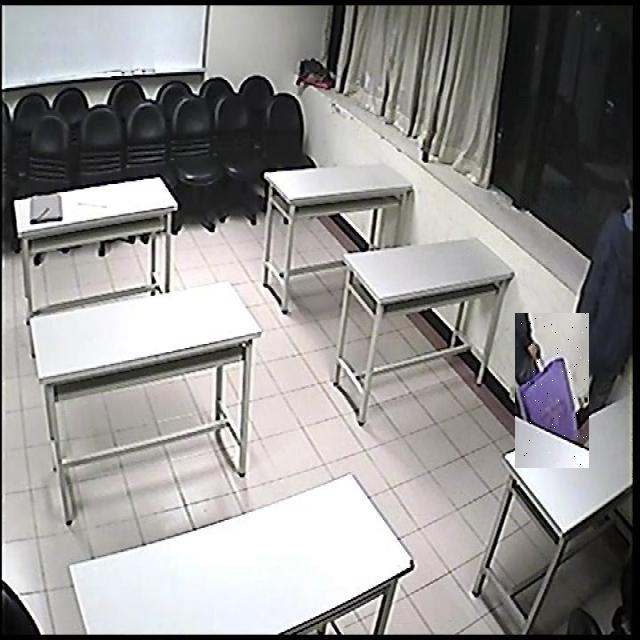abandoned-object: (515, 313, 589, 468)
